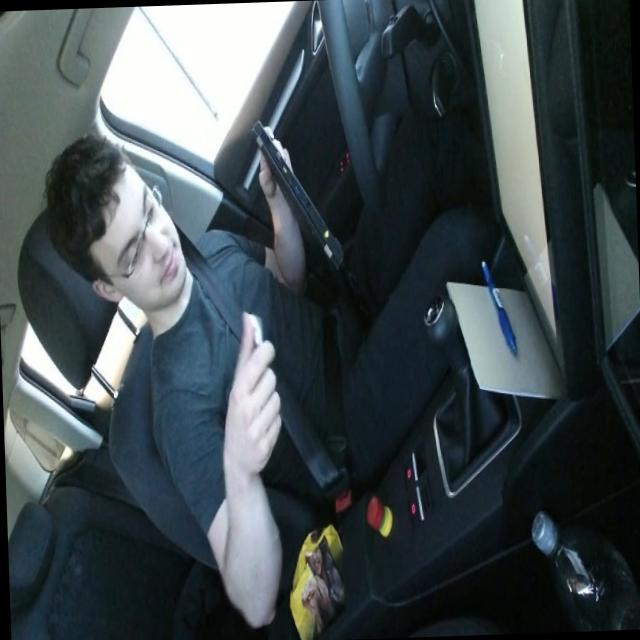laptop: (250, 110, 366, 308)
pen: (480, 256, 518, 358)
